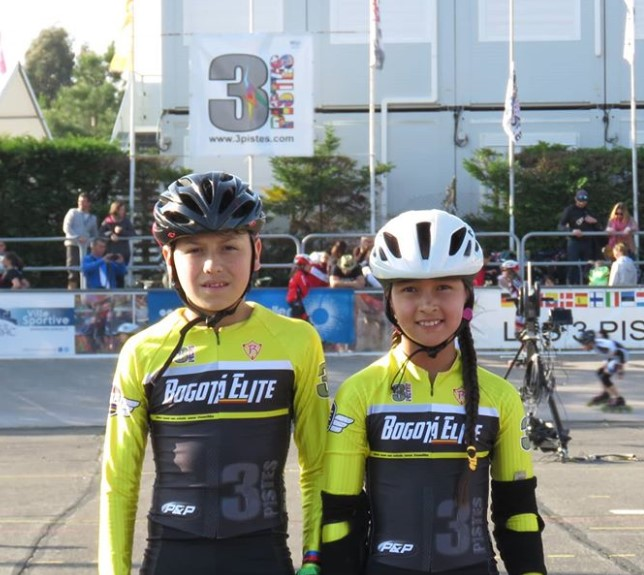face_no_mask: (166, 202, 261, 313), (387, 247, 472, 349)
